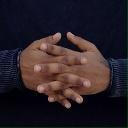hand: (18, 31, 91, 109), (33, 32, 113, 103)
